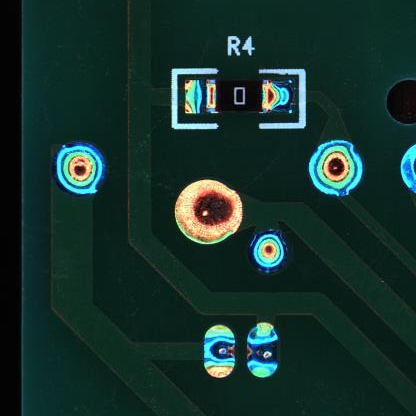spot: (307, 139, 363, 199), (52, 142, 107, 195), (247, 229, 289, 279), (246, 324, 281, 381), (203, 324, 235, 379)
